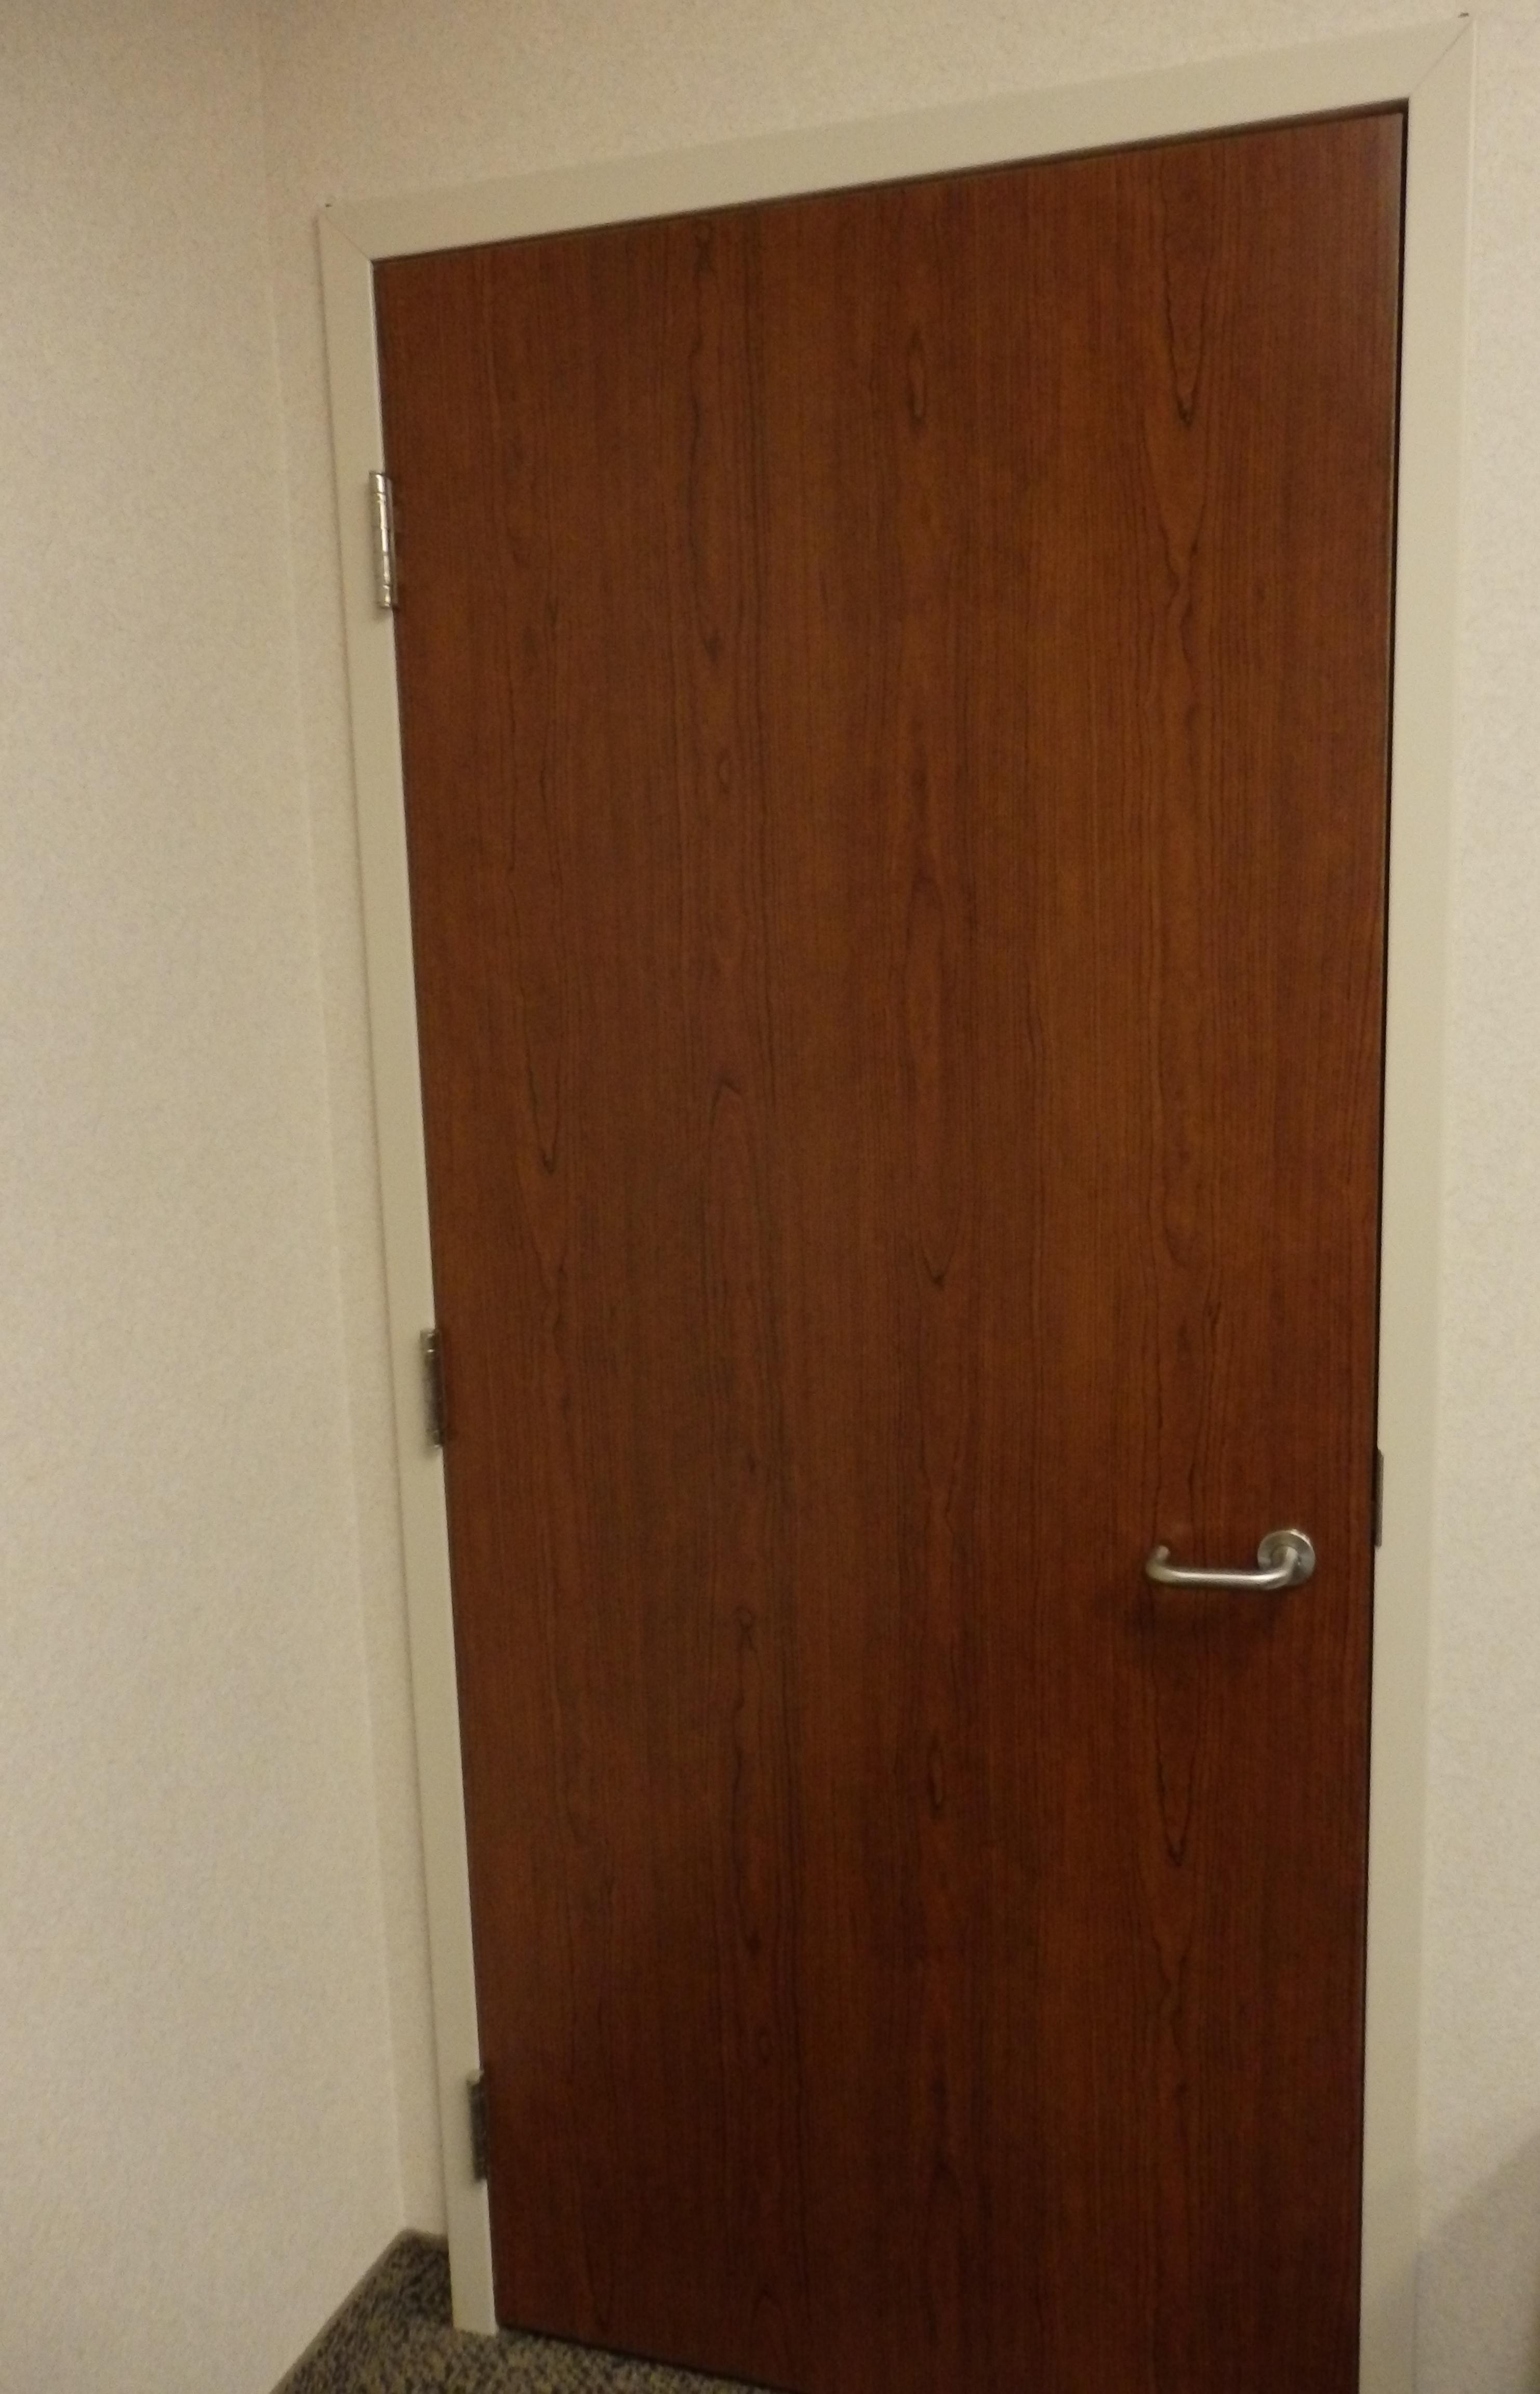handle: (1132, 1513, 1317, 1630)
